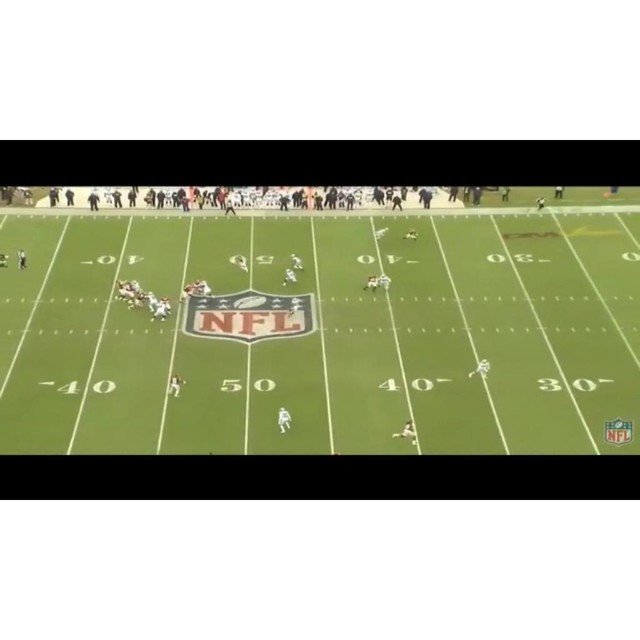american-football-player: (153, 296, 171, 323), (468, 359, 490, 380), (178, 282, 197, 304), (168, 374, 185, 398), (277, 407, 292, 434), (197, 280, 214, 300), (282, 268, 299, 287), (362, 273, 378, 292), (289, 253, 304, 272), (378, 273, 392, 292), (402, 229, 418, 242)
